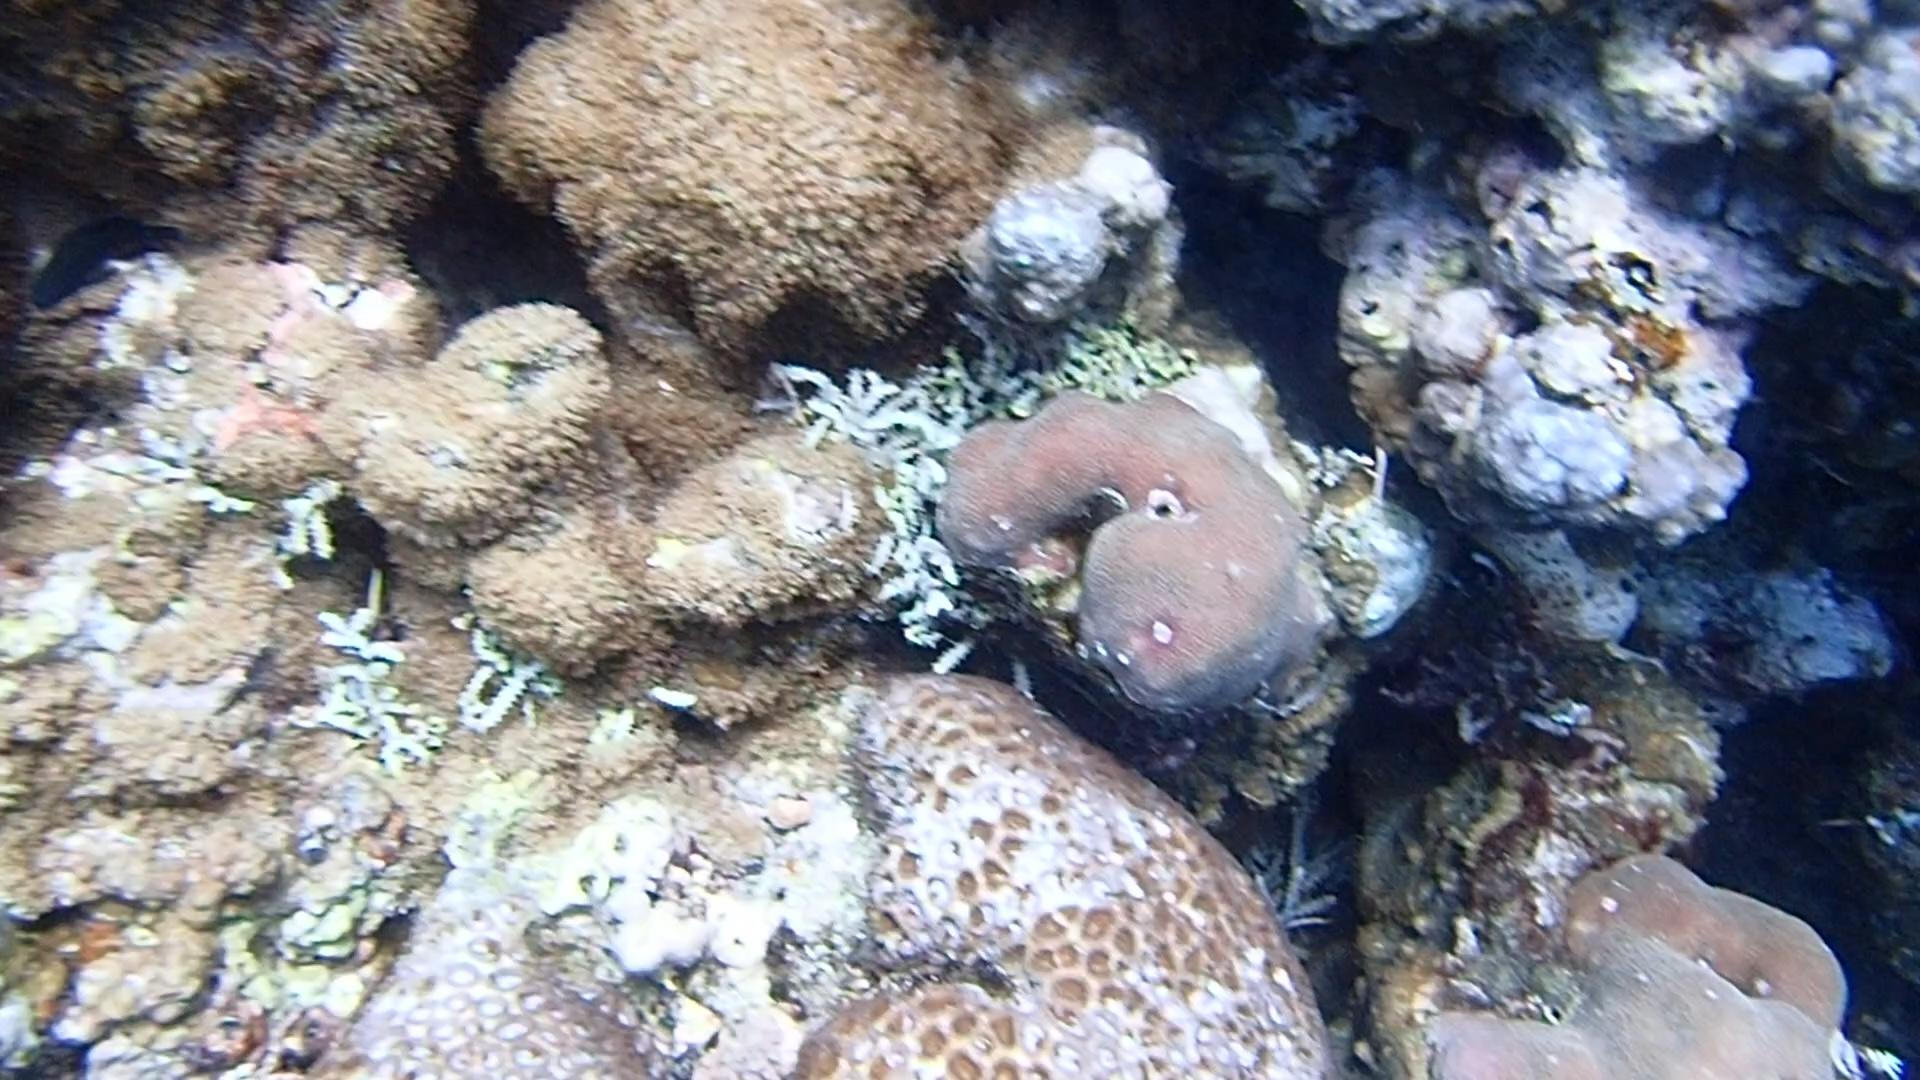Dark Fish: (15, 196, 194, 320)
